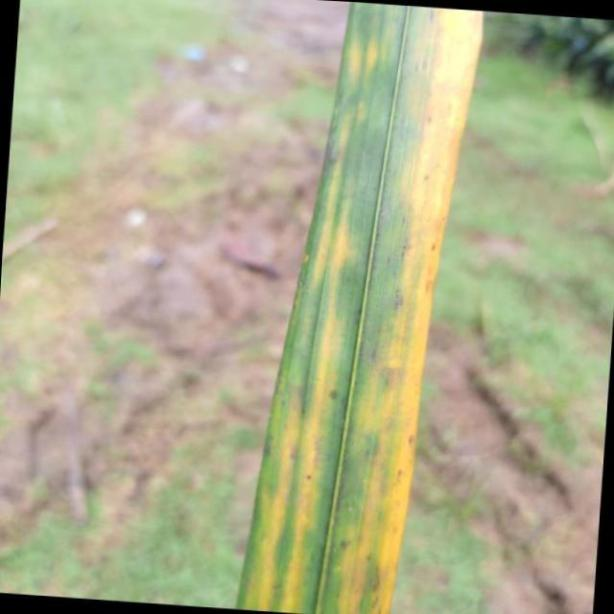Megnesium: (232, 0, 484, 614)
